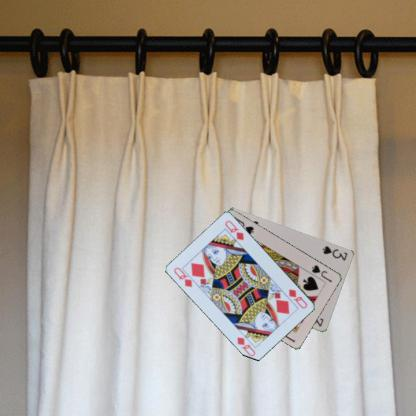3s: (320, 243, 349, 262)
Js: (309, 262, 333, 284)
Qd: (172, 265, 198, 288), (286, 286, 309, 310)
